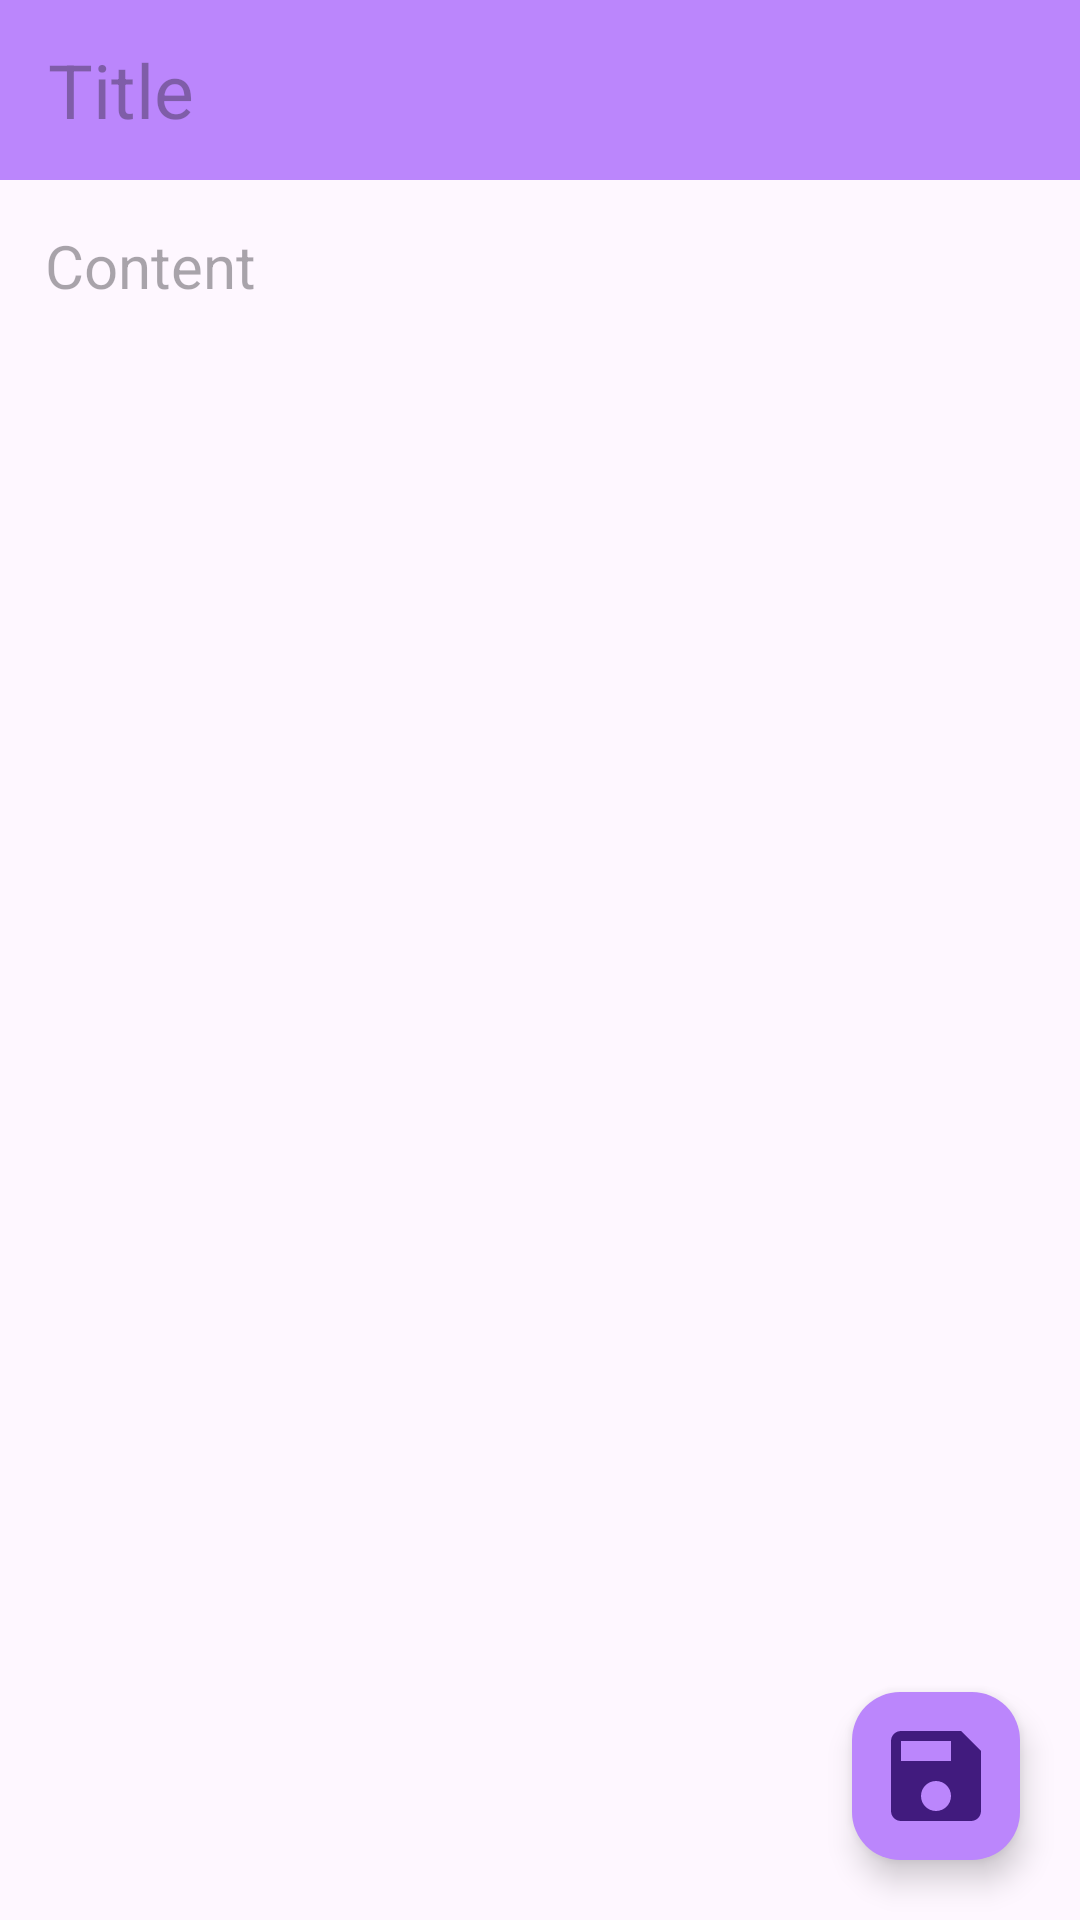

Screen size 1080*1920. Icon name, then its box in pixels as box(x1, y1, x2, y2):
save: box(852, 1692, 1020, 1860)
